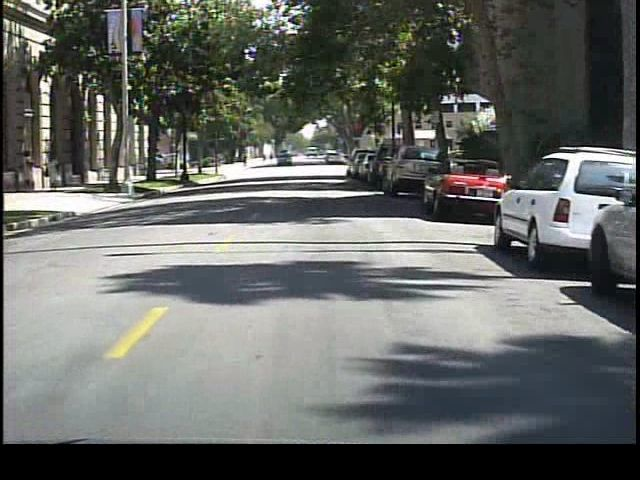person: (41, 152, 67, 195), (21, 148, 41, 193)
